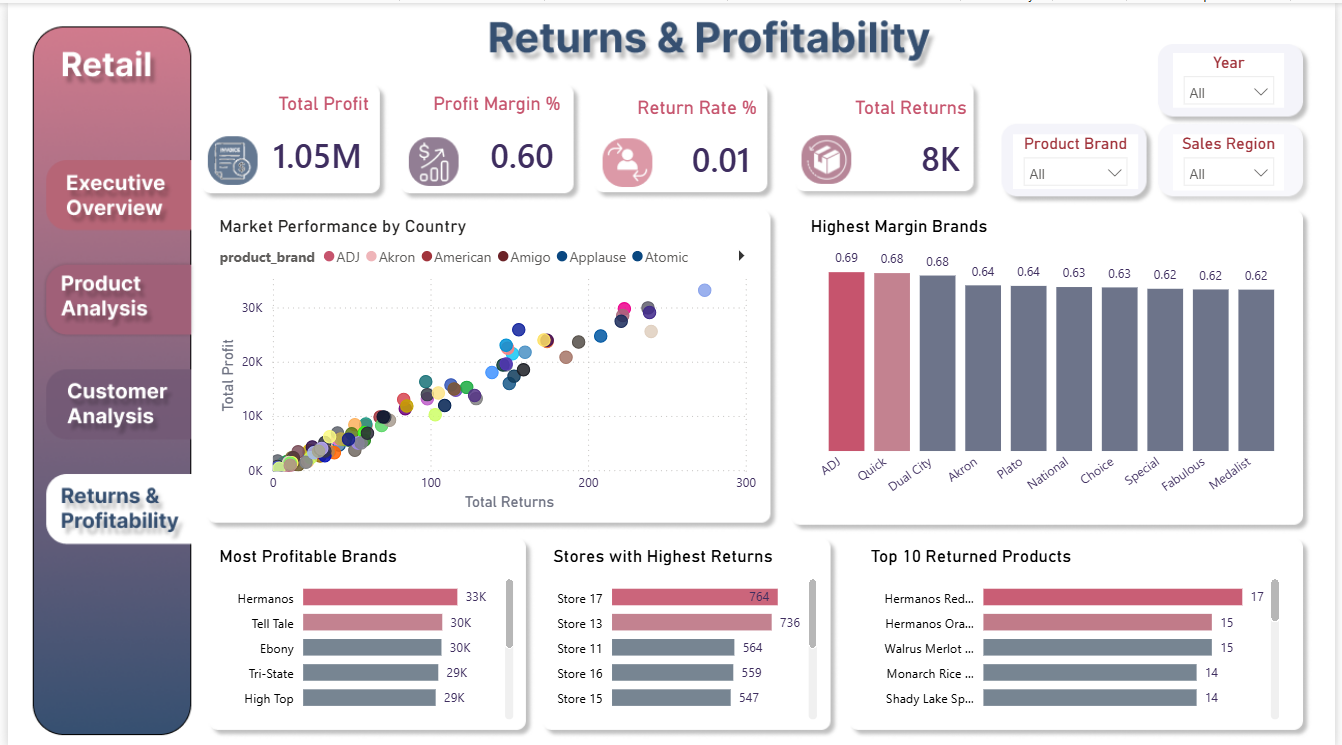

The dashboard page shown, as its layout file describes it:
{"tool":"powerbi","page":{"name":"Returns & Profitability Analysis ","canvas":[1280,720],"ordinal":3},"visuals":[{"type":"cardVisual","title":"Return Rate %","fields":{"Data":["Measure.Return Rate %"]},"box":[574.3,85.7,153.2,94.1],"z":0},{"type":"cardVisual","title":"Profit Margin %","fields":{"Data":["Measure.Profit Margin %"]},"box":[395.7,86.9,142.4,94.1],"z":1000},{"type":"cardVisual","title":"Total Returns","fields":{"Data":["Measure.Total Returns"]},"box":[769.7,85.7,160.5,92.9],"z":2000},{"type":"cardVisual","title":"Total Profit","fields":{"Data":["Measure.Total Profit"]},"box":[207.5,86.9,146,94.1],"z":3000},{"type":"barChart","title":"Top 10 Returned Products","fields":{"Category":["dimproduct.product_name"],"Y":["Measure.Total Returns"]},"box":[827.8,523.8,404.5,173.1],"z":4000},{"type":"barChart","title":"Stores with Highest Returns","fields":{"Y":["Measure.Total Returns"],"Category":["dimstore.store_name"]},"box":[520.8,523.8,264.8,173.1],"z":5000},{"type":"clusteredBarChart","title":"Most Profitable Brands","fields":{"Category":["dimproduct.product_brand"],"Y":["Measure.Total Profit"]},"box":[199.3,523.8,293.9,173.1],"z":6000},{"type":"columnChart","title":"Highest Margin Brands","fields":{"Y":["Measure.Profit Margin %"],"Category":["dimproduct.product_brand"]},"box":[769.6,205.1,475.7,289.5],"z":7000},{"type":"scatterChart","title":"Market Performance by Country","fields":{"X":["Measure.Total Returns"],"Y":["Measure.Total Profit"],"Series":["dimproduct.product_brand"]},"box":[199.3,205.1,528.1,289.5],"z":8000},{"type":"slicer","title":"Year","fields":{"Values":["dimdate.date_id.Variation.Date Hierarchy.Year","dimdate.date_id.Variation.Date Hierarchy.Quarter"]},"box":[1124.4,48.3,107.4,53.1],"z":9000},{"type":"slicer","title":"Sales Region","fields":{"Values":["dimproduct.product_brand"]},"box":[1124.4,126.7,107.4,54.3],"z":10000},{"type":"slicer","title":"Product Brand","fields":{"Values":["dimproduct.product_brand"]},"box":[970,126.7,120.6,53.1],"z":11000}]}

Visuals, with their boxes in screenshot pixels (x1, y1, x2, y2), scaled from the page's 1280x720 canvas onto the 1342x745 screenshot:
"Return Rate %" cardVisual: (602, 89, 763, 186)
"Profit Margin %" cardVisual: (415, 90, 564, 187)
"Total Returns" cardVisual: (807, 89, 975, 185)
"Total Profit" cardVisual: (218, 90, 371, 187)
"Top 10 Returned Products" barChart: (868, 542, 1292, 721)
"Stores with Highest Returns" barChart: (546, 542, 824, 721)
"Most Profitable Brands" clusteredBarChart: (209, 542, 517, 721)
"Highest Margin Brands" columnChart: (807, 212, 1306, 512)
"Market Performance by Country" scatterChart: (209, 212, 763, 512)
"Year" slicer: (1179, 50, 1291, 105)
"Sales Region" slicer: (1179, 131, 1291, 187)
"Product Brand" slicer: (1017, 131, 1143, 186)
